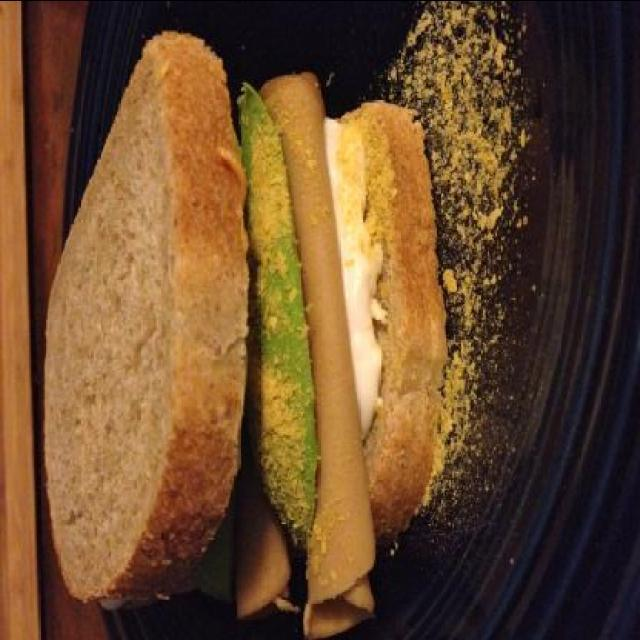Sandwich: (43, 28, 447, 640)
